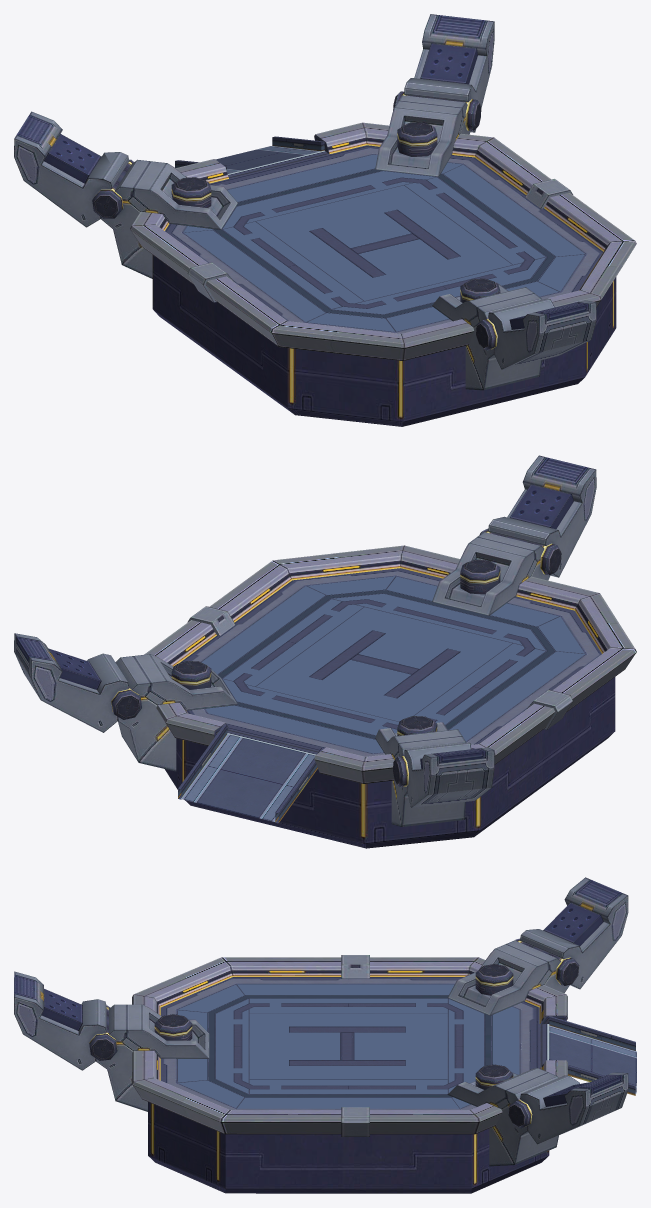
Rendered from Scece_01_pingta04.FBX.
3 renders of one model, top to bottom at view 1: azimuth 30°, elevation 25°; view 2: azimuth 150°, elevation 25°; view 3: azimuth 270°, elevation 25°, orthographic. The views are drawn at different scales.
Parts seen in each view (by area): view 1: Scece_01_pingta04_02, Scece_01_pingta04_01, Scece_01_pingta04_03; view 2: Scece_01_pingta04_02, Scece_01_pingta04_01, Scece_01_pingta04_03; view 3: Scece_01_pingta04_02, Scece_01_pingta04_01, Scece_01_pingta04_03.
Part boxes in pixels (x1,y1,x2,y2): Scece_01_pingta04_02: (14,14,636,426); Scece_01_pingta04_01: (183,154,584,331); Scece_01_pingta04_03: (165,136,603,333); Scece_01_pingta04_02: (14,455,636,848); Scece_01_pingta04_01: (201,576,584,753); Scece_01_pingta04_03: (178,568,601,823); Scece_01_pingta04_02: (14,877,628,1193); Scece_01_pingta04_01: (178,984,519,1108); Scece_01_pingta04_03: (160,977,636,1109).
Bounding box in the file's own units: 10.5 × 3.19 × 12.93.
Materials: 3 (3 with a texture image).
